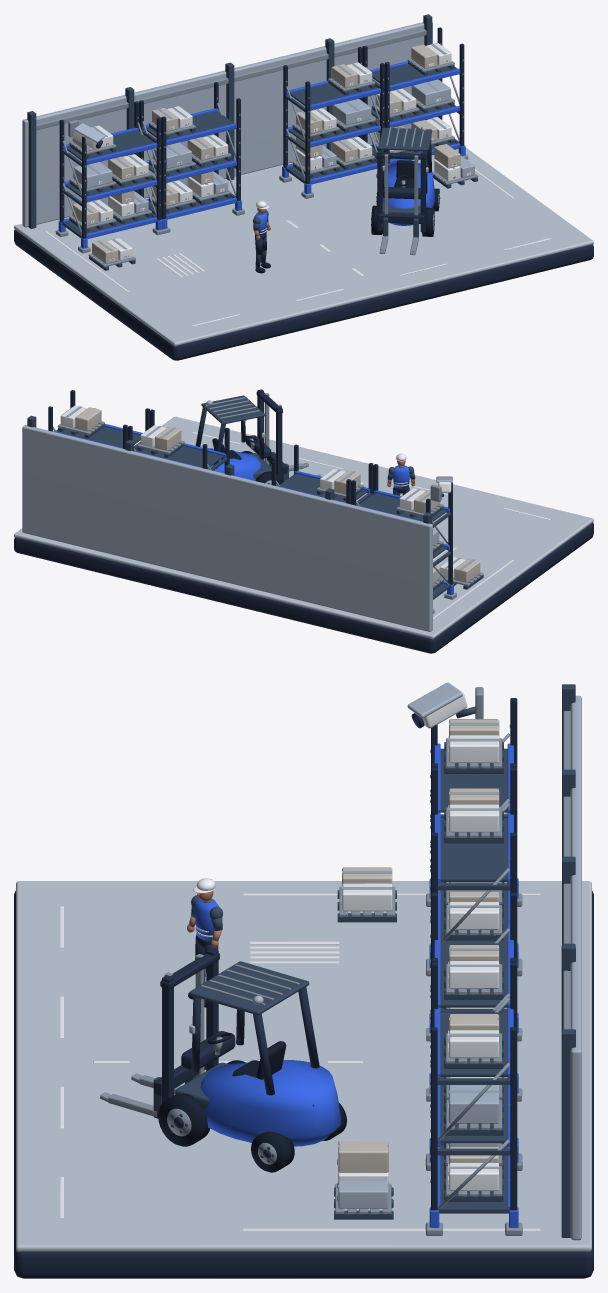
The model's file is warehouse.glb.
The picture shows the model from 3 angles, top to bottom: view 1: azimuth 30°, elevation 25°; view 2: azimuth 150°, elevation 25°; view 3: azimuth 270°, elevation 25°; orthographic projection. The views are drawn at different scales.
Visible parts, largest first — view 1: Warehouse_Concrete, Warehouse_Fog blue, Warehouse_Navy powder coat, Warehouse_Structural slate, Warehouse_Brushed steel, Warehouse_Pearl white, Warehouse_Operix blue, Warehouse_Silver packaging, Forklift_Navy powder coat, Forklift_Structural slate, Warehouse_Pallet tape, Forklift_Brushed steel (+2 smaller); view 2: Warehouse_Fog blue, Warehouse_Concrete, Warehouse_Navy powder coat, Warehouse_Structural slate, Warehouse_Silver packaging, Warehouse_Pearl white, Forklift_Navy powder coat, Forklift_Structural slate, Warehouse_Brushed steel, Warehouse_Operix blue, Forklift_Brushed steel, Forklift_Operix blue (+1 smaller); view 3: Warehouse_Concrete, Warehouse_Navy powder coat, Warehouse_Structural slate, Warehouse_Pearl white, Warehouse_Fog blue, Warehouse_Brushed steel, Forklift_Operix blue, Forklift_Navy powder coat, Warehouse_Silver packaging, Warehouse_Operix blue, Forklift_Structural slate, Forklift_Brushed steel (+5 smaller).
Boxes of the visible parts, x1=… form: Warehouse_Concrete: x1=14, y1=143, x2=593, y2=346; Warehouse_Fog blue: x1=22, y1=22, x2=474, y2=227; Warehouse_Navy powder coat: x1=14, y1=27, x2=593, y2=360; Warehouse_Structural slate: x1=27, y1=14, x2=477, y2=270; Warehouse_Brushed steel: x1=36, y1=29, x2=478, y2=267; Warehouse_Pearl white: x1=45, y1=43, x2=550, y2=326; Warehouse_Operix blue: x1=58, y1=61, x2=465, y2=248; Warehouse_Silver packaging: x1=72, y1=44, x2=460, y2=263; Forklift_Navy powder coat: x1=376, y1=137, x2=431, y2=232; Forklift_Structural slate: x1=378, y1=127, x2=432, y2=238; Warehouse_Pallet tape: x1=86, y1=43, x2=469, y2=251; Forklift_Brushed steel: x1=379, y1=127, x2=423, y2=255; Warehouse_Fog blue: x1=22, y1=425, x2=439, y2=631; Warehouse_Concrete: x1=14, y1=416, x2=593, y2=639; Warehouse_Navy powder coat: x1=14, y1=390, x2=593, y2=653; Warehouse_Structural slate: x1=27, y1=415, x2=483, y2=599; Warehouse_Silver packaging: x1=75, y1=407, x2=480, y2=583; Warehouse_Pearl white: x1=60, y1=405, x2=550, y2=619; Forklift_Navy powder coat: x1=195, y1=389, x2=287, y2=479; Forklift_Structural slate: x1=201, y1=395, x2=288, y2=481; Warehouse_Brushed steel: x1=53, y1=421, x2=483, y2=613; Warehouse_Operix blue: x1=53, y1=424, x2=453, y2=594; Forklift_Brushed steel: x1=205, y1=393, x2=321, y2=476; Forklift_Operix blue: x1=207, y1=448, x2=261, y2=480; Warehouse_Concrete: x1=16, y1=881, x2=591, y2=1251; Warehouse_Navy powder coat: x1=14, y1=698, x2=593, y2=1278; Warehouse_Structural slate: x1=334, y1=684, x2=575, y2=1237; Warehouse_Pearl white: x1=60, y1=735, x2=540, y2=1230; Warehouse_Fog blue: x1=338, y1=695, x2=581, y2=1240; Warehouse_Brushed steel: x1=335, y1=711, x2=570, y2=1235; Forklift_Operix blue: x1=200, y1=1060, x2=341, y2=1146; Forklift_Navy powder coat: x1=154, y1=948, x2=319, y2=1106; Warehouse_Silver packaging: x1=338, y1=719, x2=499, y2=1176; Warehouse_Operix blue: x1=429, y1=743, x2=518, y2=1227; Forklift_Structural slate: x1=153, y1=961, x2=309, y2=1118; Forklift_Brushed steel: x1=100, y1=954, x2=299, y2=1116.
Bounding box in the file's own units: 11.4 × 3.64 × 7.6.
